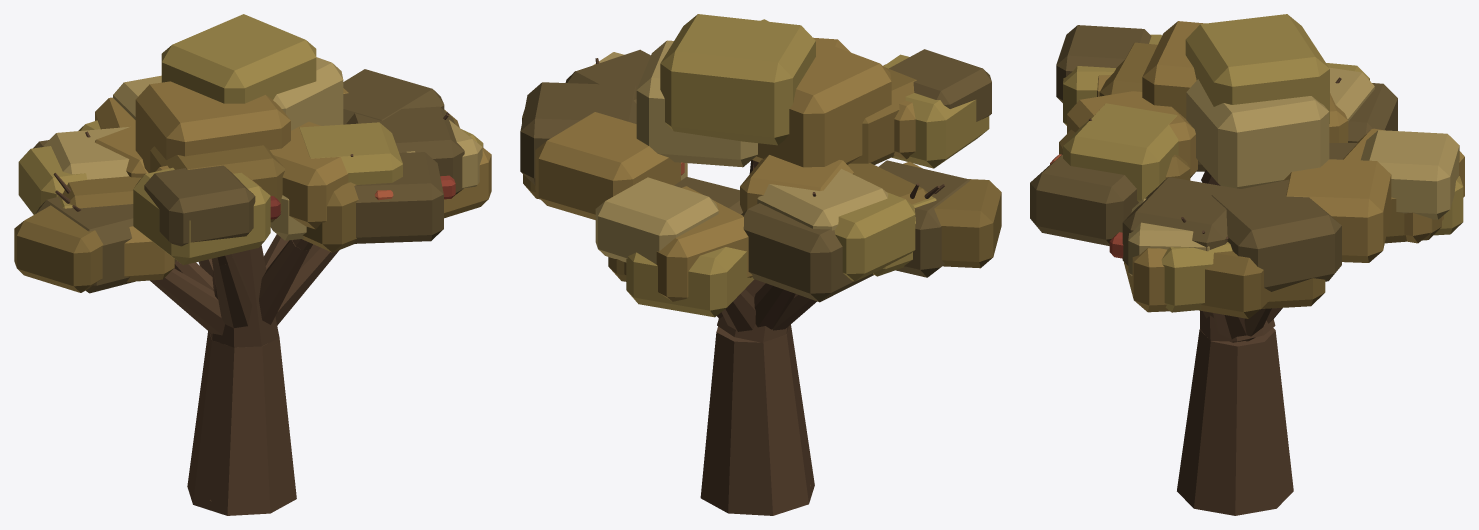
Rendered from apple_mature_autumn_fruiting_2.glb.
3 views of the same model, side by side, from view 1: azimuth 30°, elevation 25°; view 2: azimuth 150°, elevation 25°; view 3: azimuth 270°, elevation 25° (orthographic). The views are drawn at different scales.
Visible parts, largest first — view 1: apple_mature_autumn_fruiting_2; view 2: apple_mature_autumn_fruiting_2; view 3: apple_mature_autumn_fruiting_2.
Part boxes in pixels (<box>): apple_mature_autumn_fruiting_2: <box>14,14,491,515</box>; apple_mature_autumn_fruiting_2: <box>520,14,1001,515</box>; apple_mature_autumn_fruiting_2: <box>1030,14,1464,515</box>.
Size of the model in its own units: 12.68 by 12 by 10.4.
